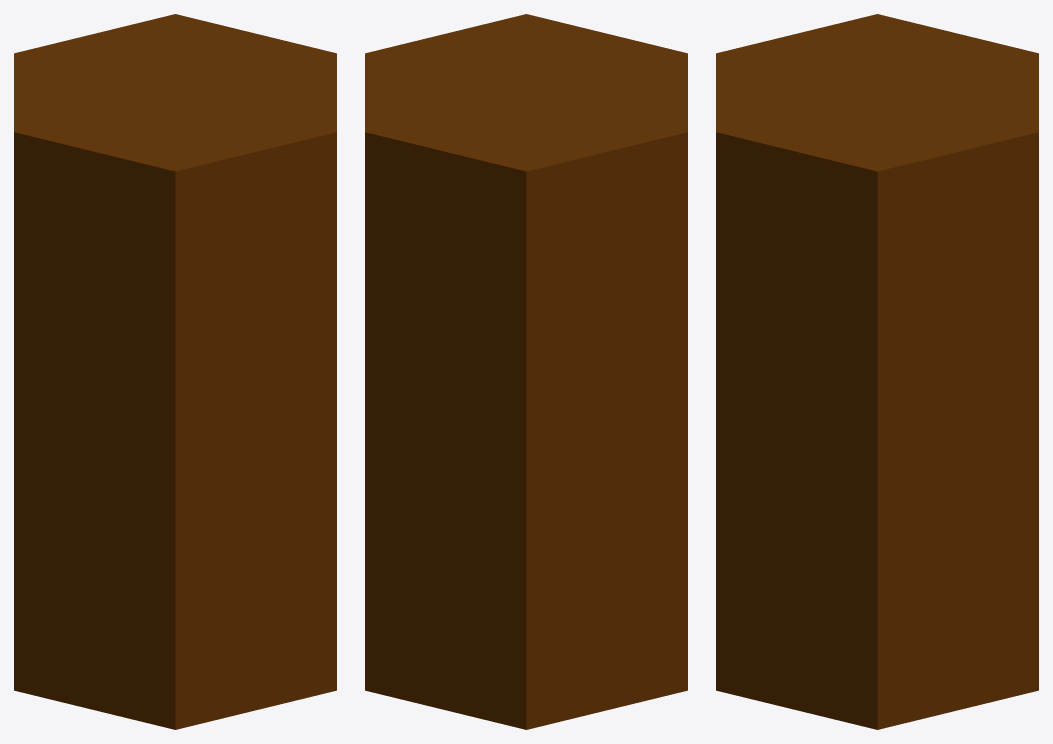
The model's file is BarrelLOD.obj.
3 views of the same model, side by side, from view 1: azimuth 30°, elevation 25°; view 2: azimuth 150°, elevation 25°; view 3: azimuth 270°, elevation 25° (orthographic).
Parts seen in each view (by area): view 1: Barrel:collider; view 2: Barrel:collider; view 3: Barrel:collider.
Part boxes in pixels (x1,y1,x2,y2): Barrel:collider: (14,14,336,729); Barrel:collider: (365,14,687,729); Barrel:collider: (716,14,1038,729).
Size of the model in its own units: 59.64 by 98.57 by 51.65.
